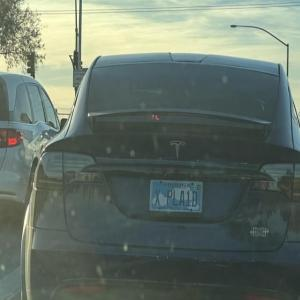Plate: (148, 179, 203, 214)
